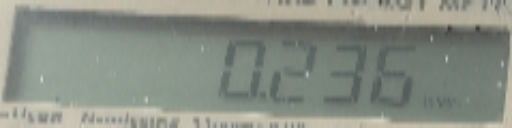0: (221, 34, 268, 106)
2: (269, 34, 316, 106)
3: (322, 34, 369, 106)
6: (375, 35, 422, 107)
d: (258, 90, 269, 102)
